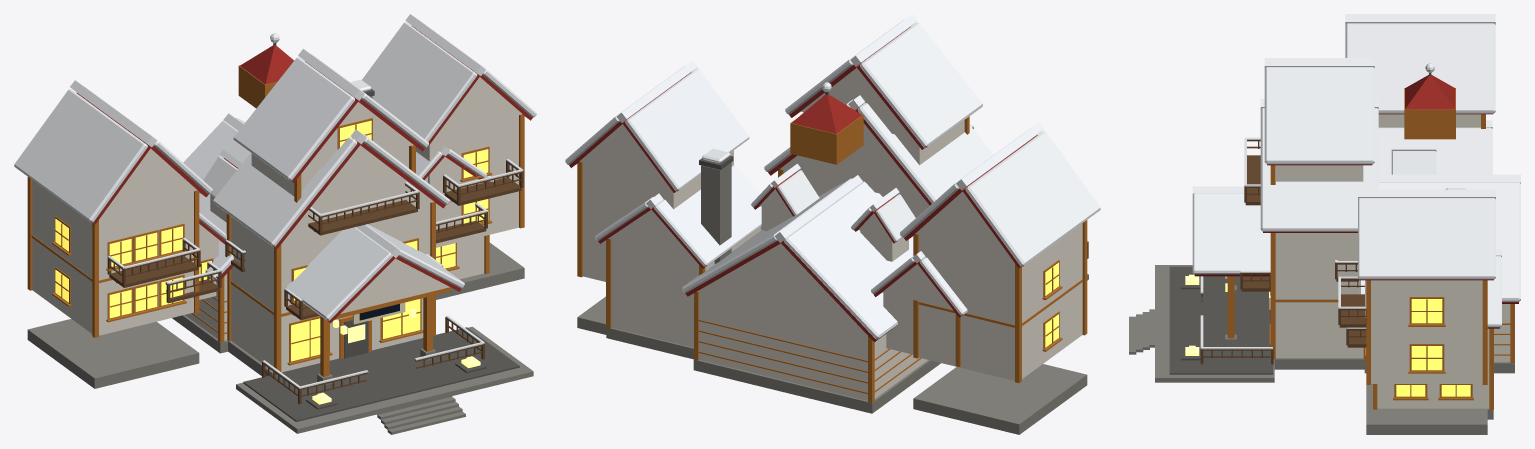
The model's file is lodge-tier-3-sugarhouse.glb.
3 views of the same model, side by side, from view 1: azimuth 30°, elevation 25°; view 2: azimuth 150°, elevation 25°; view 3: azimuth 270°, elevation 25° (orthographic). The views are drawn at different scales.
Visible parts, largest first — view 1: lodge-tier-3-sugarhouse; view 2: lodge-tier-3-sugarhouse; view 3: lodge-tier-3-sugarhouse.
Boxes of the visible parts, x1,y1,x2,y2 form: lodge-tier-3-sugarhouse: (14,14,536,434); lodge-tier-3-sugarhouse: (565,14,1100,434); lodge-tier-3-sugarhouse: (1129,14,1520,434).
Bounding box in the file's own units: 31.65 × 19.02 × 24.21.
